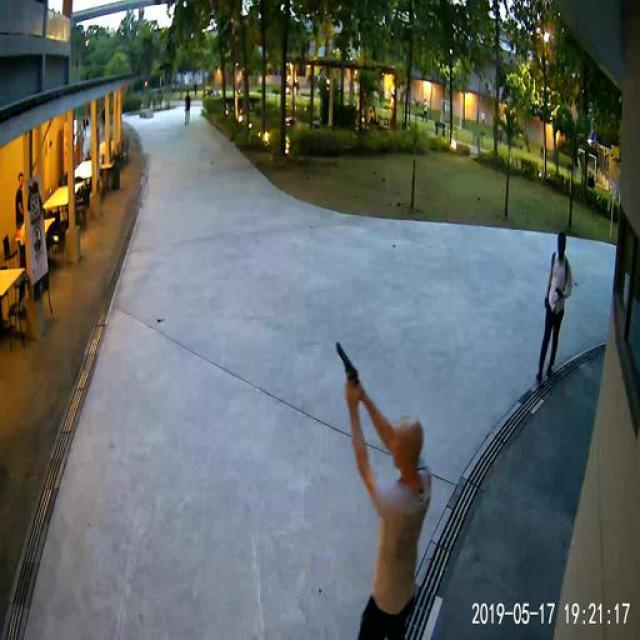Gun: (334, 339, 358, 395)
